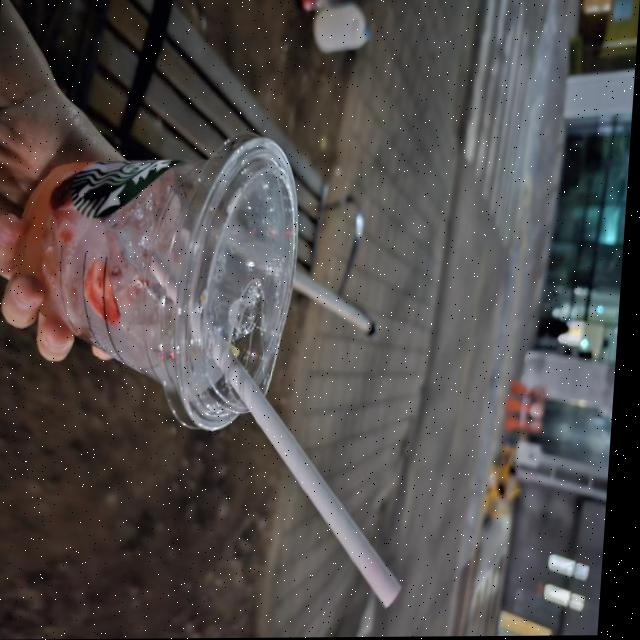cup: (3, 130, 318, 434)
